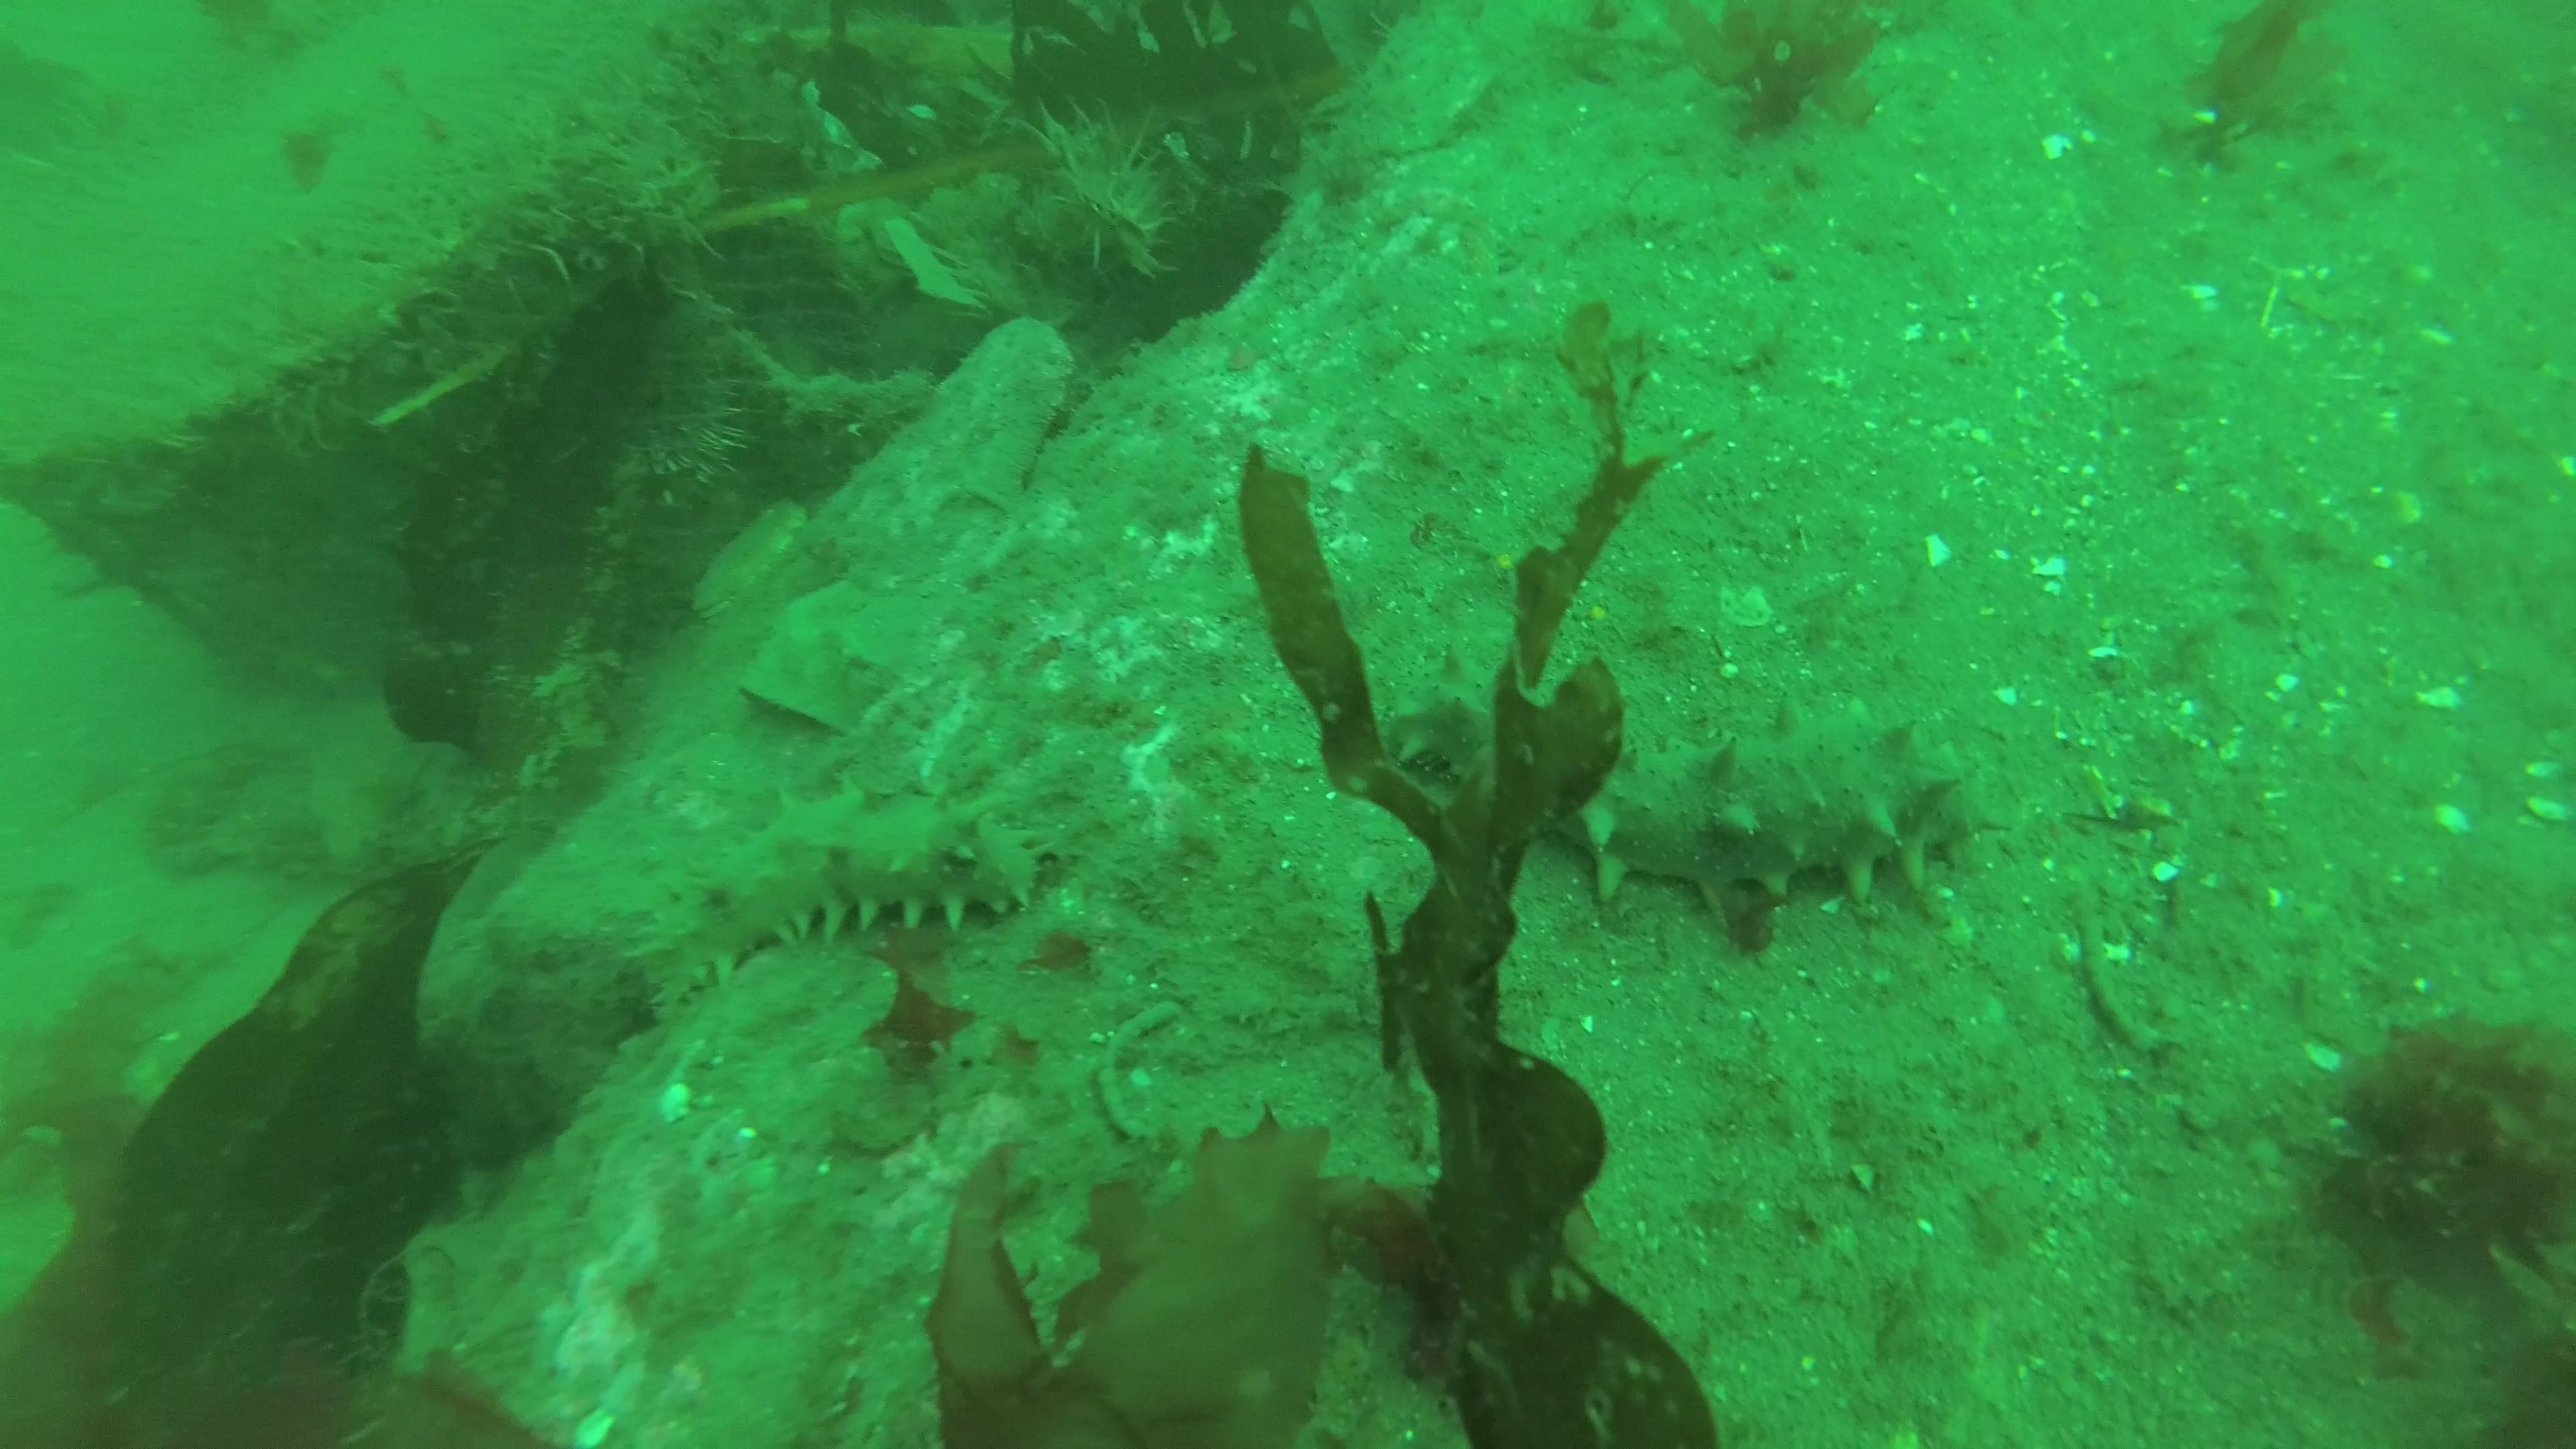holothurian: (1382, 640, 1957, 938), (623, 771, 1062, 1010)
